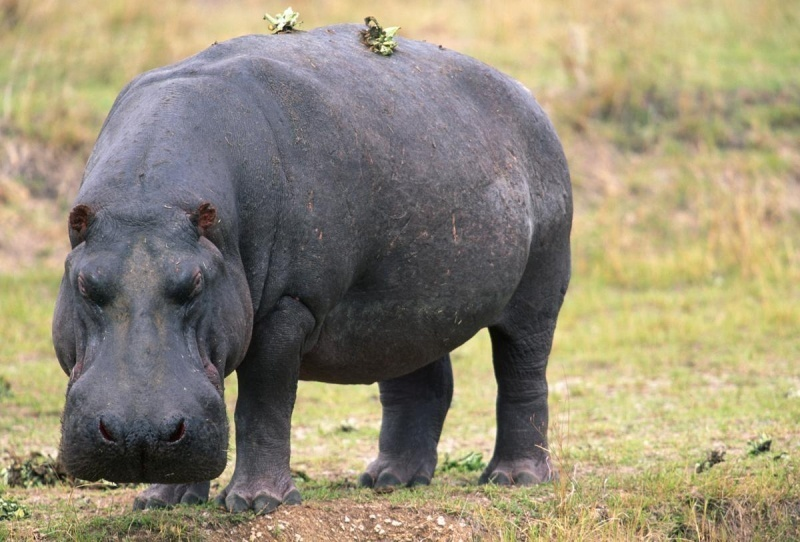hipopotamo: (52, 18, 578, 505)
